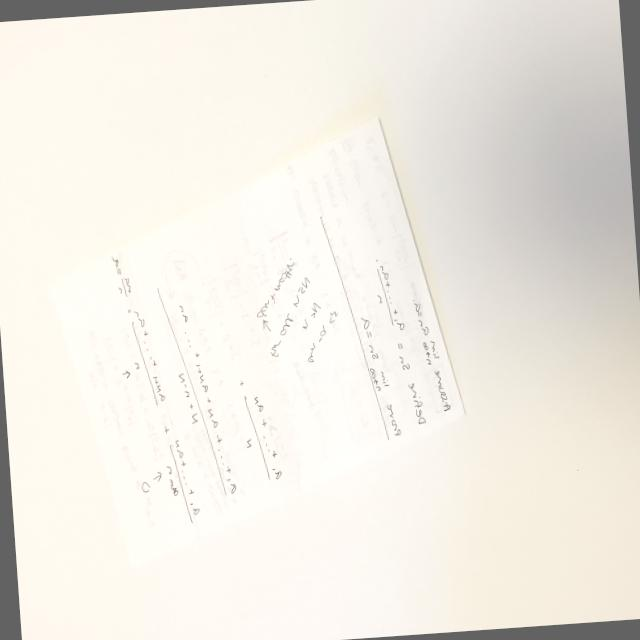Paper: (50, 93, 493, 588)
